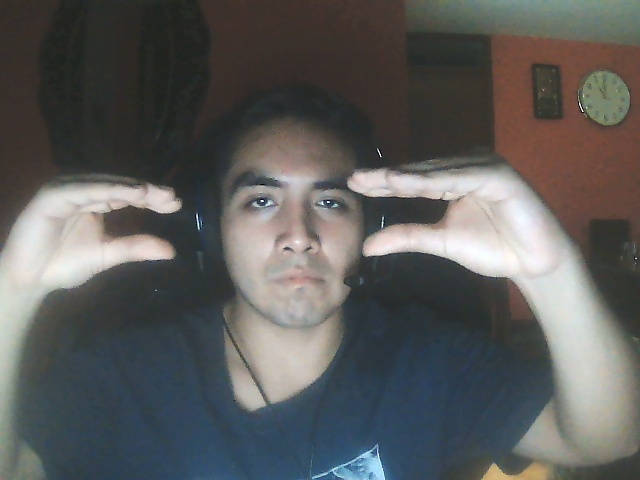no: (345, 151, 580, 280), (13, 168, 184, 295)
